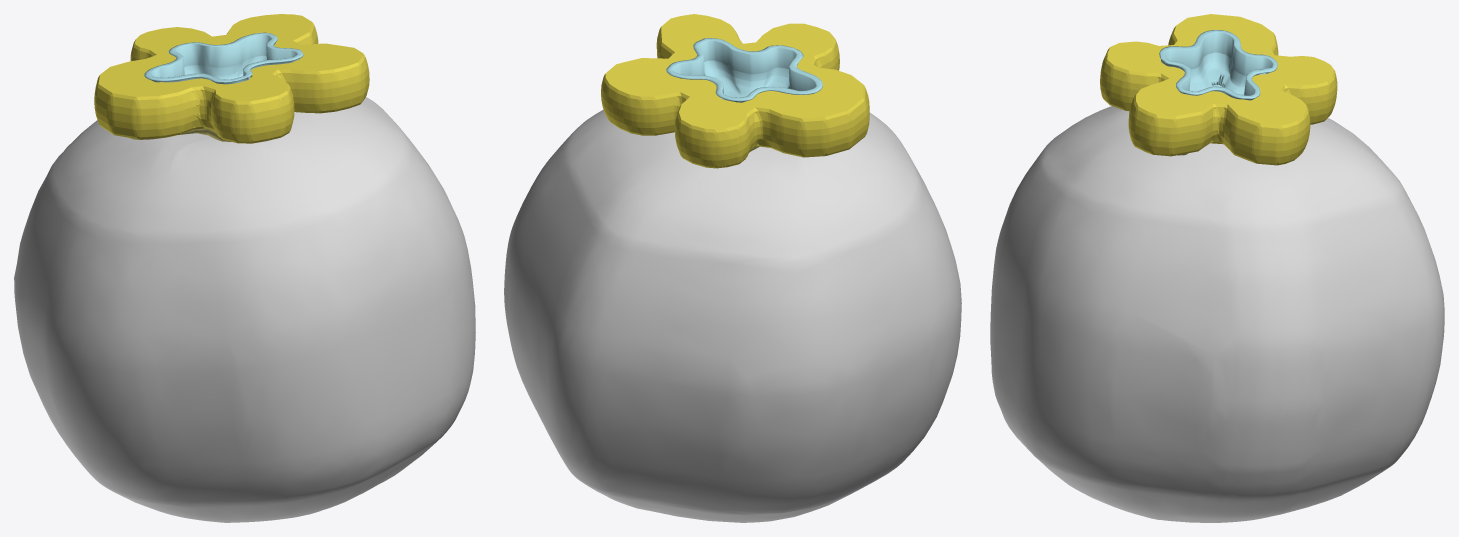
Rendered from flower33.glb.
The picture shows the model from 3 angles, left to right: view 1: azimuth 30°, elevation 25°; view 2: azimuth 150°, elevation 25°; view 3: azimuth 270°, elevation 25°; orthographic projection. The views are drawn at different scales.
Visible parts, largest first — view 1: Cylinder.045, Plane.198, Plane.199; view 2: Cylinder.045, Plane.198, Plane.199; view 3: Cylinder.045, Plane.198, Plane.199.
Part boxes in pixels (<box>): Cylinder.045: <box>14,97,475,522</box>; Plane.198: <box>94,14,369,143</box>; Plane.199: <box>144,32,303,84</box>; Cylinder.045: <box>504,109,961,522</box>; Plane.198: <box>601,14,869,168</box>; Plane.199: <box>666,38,822,102</box>; Cylinder.045: <box>990,106,1444,522</box>; Plane.198: <box>1100,14,1337,165</box>; Plane.199: <box>1159,30,1277,100</box>.
Bounding box in the file's own units: 4.54 × 4.76 × 4.57.
